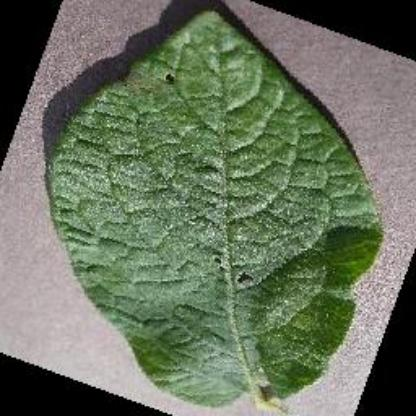Healthy-plant: (49, 6, 384, 408)
